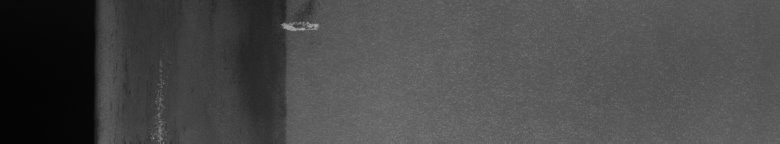hc: (277, 4, 320, 123)
